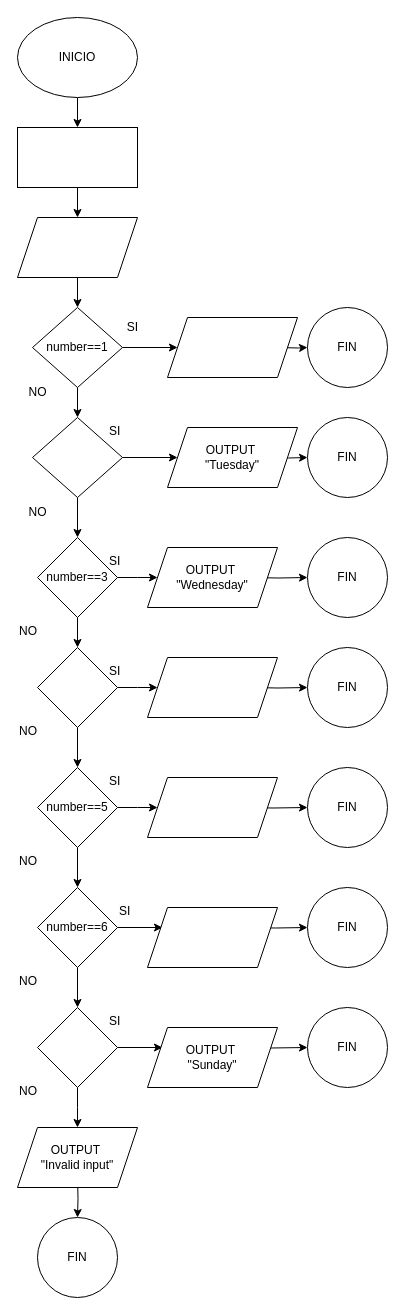
Some shapes in this 405 by 1315 pixel diagram are drawn without their labels. Here are the shapes that lost their labels. From the top down, the centre of each, then its label:
point 77,157: Declarando number
point 77,247: INPUT number
point 232,347: OUTPUT "Monday"
point 77,457: number==2
point 77,687: number==4
point 212,687: OUTPUT "Thursday"
point 212,807: OUTPUT "Friday"
point 212,937: OUTPUT "Saturday"
point 77,1047: number==7
